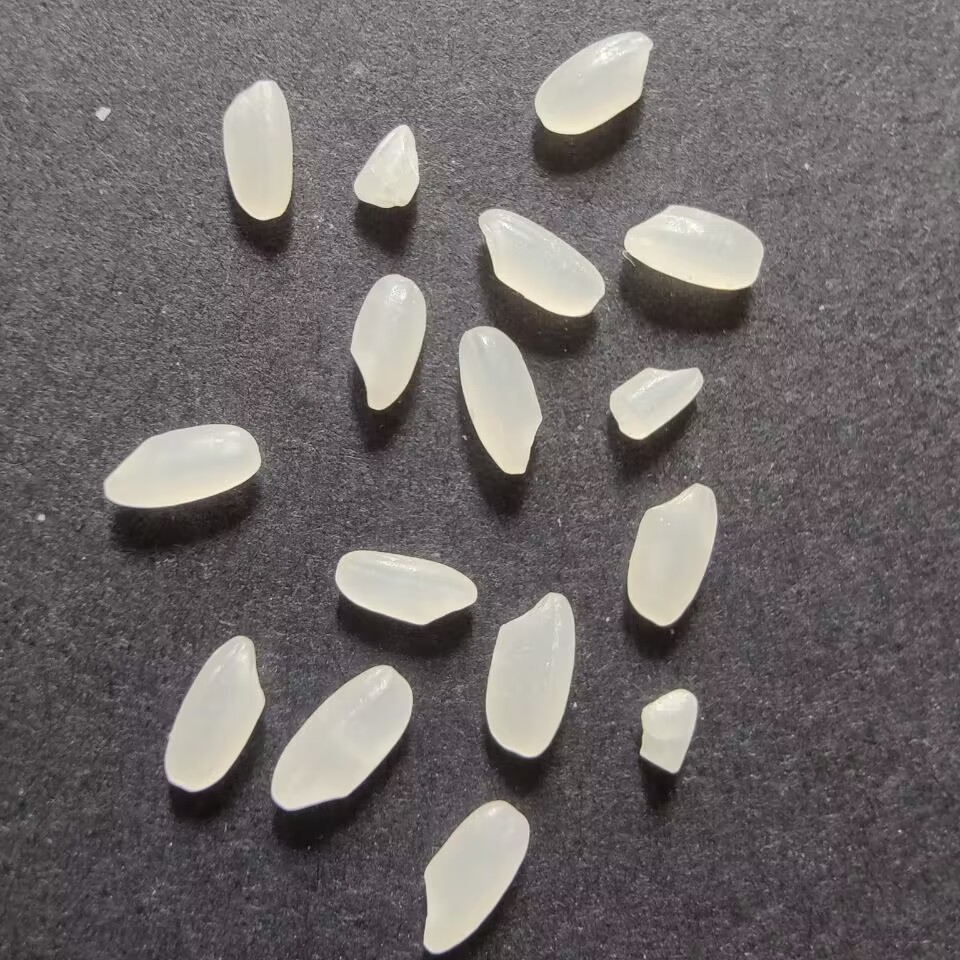broken: (605, 360, 710, 439), (344, 119, 429, 212), (632, 685, 703, 781)
rice: (265, 663, 414, 815), (418, 793, 533, 954), (159, 630, 270, 795), (481, 585, 581, 760), (94, 417, 266, 513), (471, 204, 610, 320), (455, 319, 548, 486), (620, 481, 720, 630), (618, 200, 769, 294), (531, 24, 653, 136), (334, 543, 479, 629), (220, 76, 301, 229), (344, 269, 429, 412)
